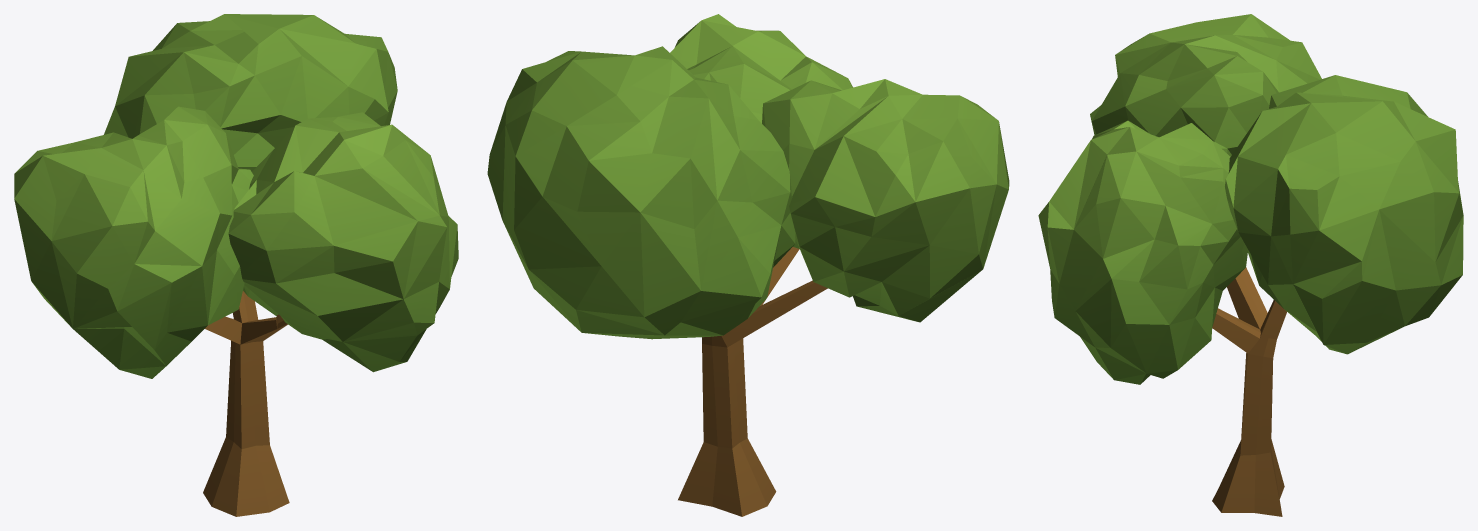
File: LowPoly_TREE_A.glb
The picture shows the model from 3 angles, left to right: view 1: azimuth 30°, elevation 25°; view 2: azimuth 150°, elevation 25°; view 3: azimuth 270°, elevation 25°; orthographic projection. The views are drawn at different scales.
Parts seen in each view (by area): view 1: Tree_average_lush.001; view 2: Tree_average_lush.001; view 3: Tree_average_lush.001.
Boxes of the visible parts, <box> form: Tree_average_lush.001: <box>14,14,458,516</box>; Tree_average_lush.001: <box>487,14,1009,516</box>; Tree_average_lush.001: <box>1038,14,1463,516</box>.
Bounding box in the file's own units: 14.67 × 14.66 × 13.24.
Materials: 1 (1 with a texture image).
